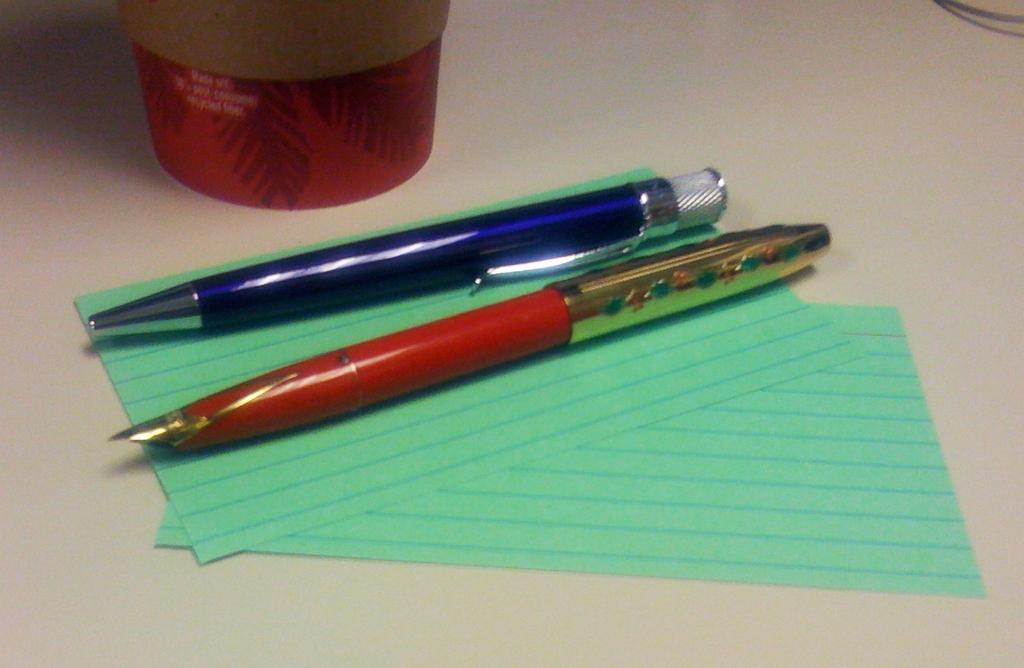pen: (101, 222, 831, 468), (81, 161, 725, 333)
